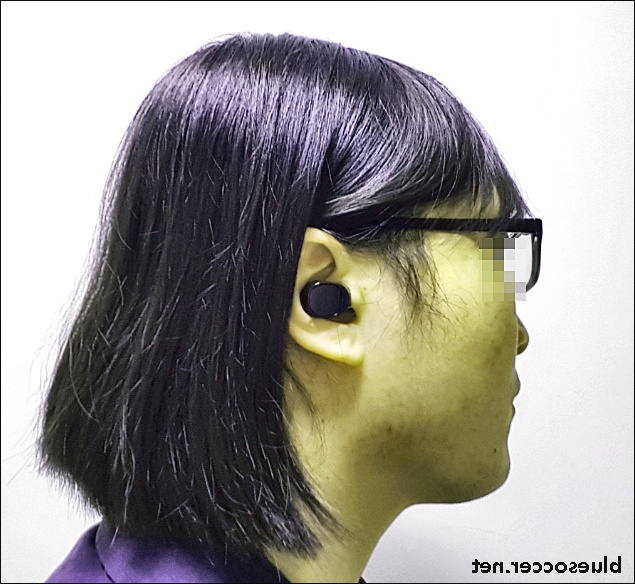earphone: (284, 228, 367, 365)
